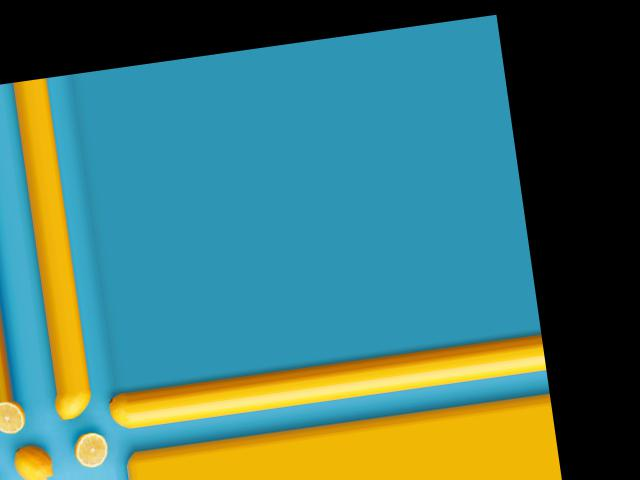lemon: (105, 395, 133, 433)
